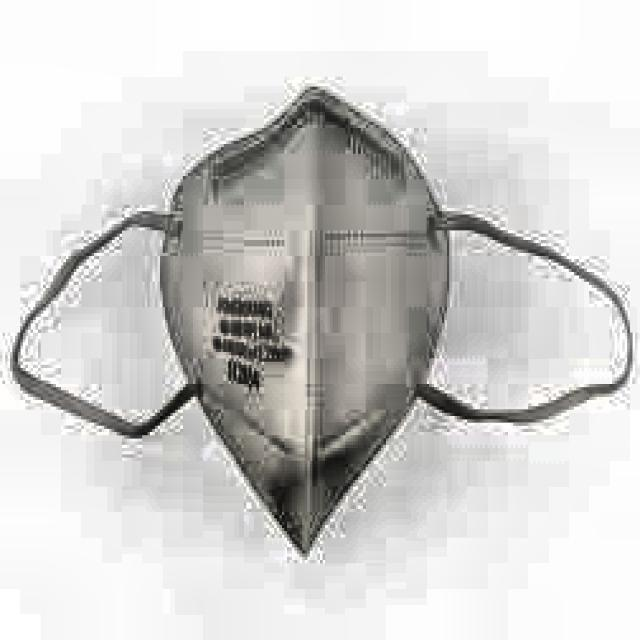trash: (18, 80, 640, 554)
